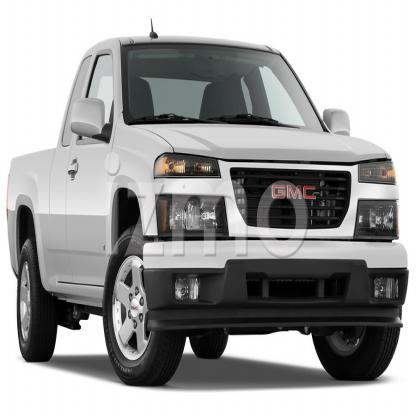Vehicle: (6, 15, 410, 387)
